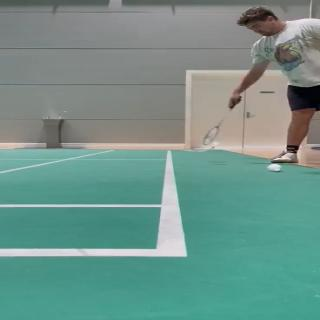Shuttle: (267, 164, 282, 172), (210, 140, 220, 149)
